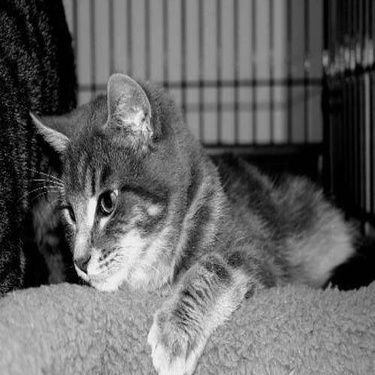cat: (27, 71, 370, 371)
